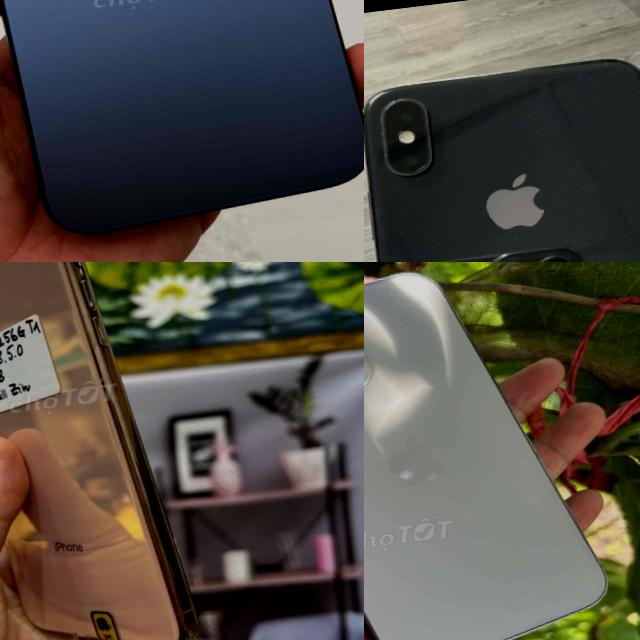gen_14: (364, 262, 622, 640)
gen_15: (0, 0, 364, 255)
gen_x_xs: (0, 262, 231, 640), (364, 46, 640, 262)
